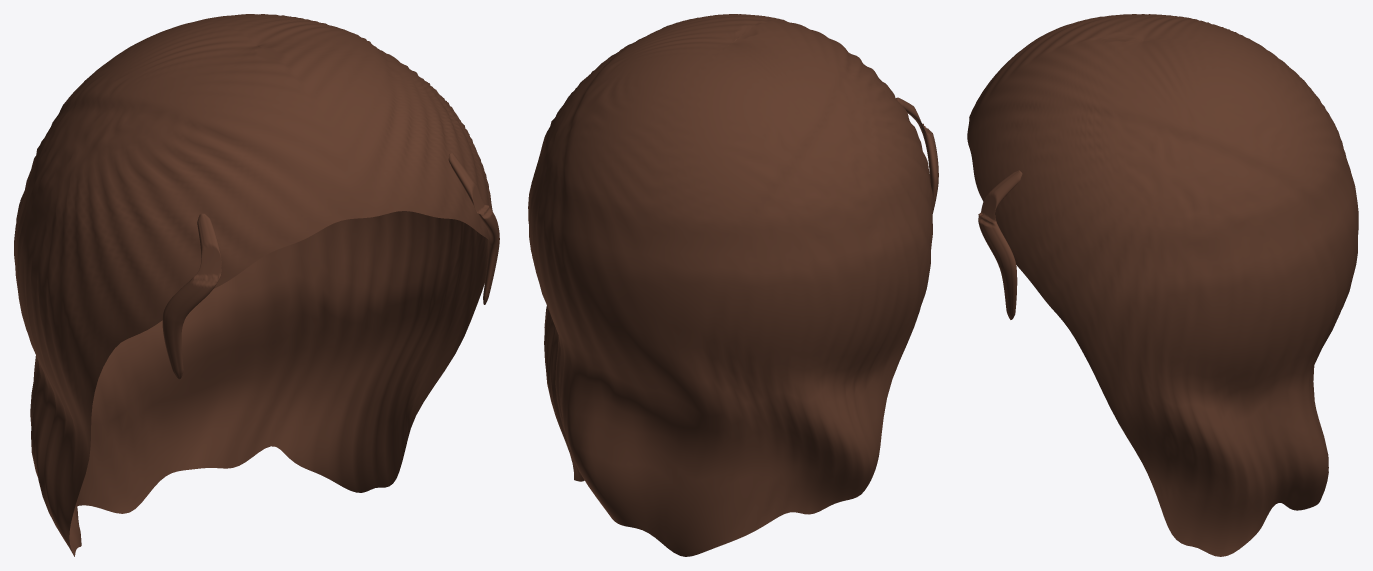
The model's file is space-buns-cowboy.glb.
3 views of the same model, side by side, from view 1: azimuth 30°, elevation 25°; view 2: azimuth 150°, elevation 25°; view 3: azimuth 270°, elevation 25° (orthographic). The views are drawn at different scales.
Parts seen in each view (by area): view 1: 226 hair / Hair / chestnut226.002; view 2: 226 hair / Hair / chestnut226.002; view 3: 226 hair / Hair / chestnut226.002.
Boxes of the visible parts, left/top/right/bottom form: 226 hair / Hair / chestnut226.002: left=14, top=14, right=499, bottom=556; 226 hair / Hair / chestnut226.002: left=528, top=14, right=938, bottom=556; 226 hair / Hair / chestnut226.002: left=967, top=14, right=1358, bottom=556.
Bounding box in the file's own units: 0.8048 × 0.9701 × 0.7316.
